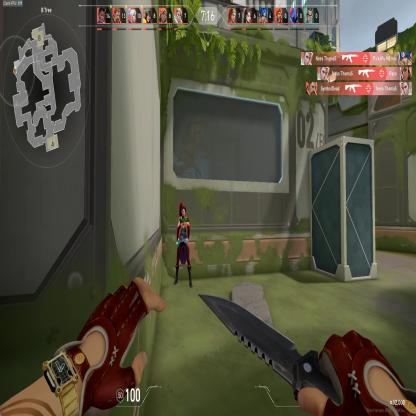enemy: (170, 199, 194, 290)
